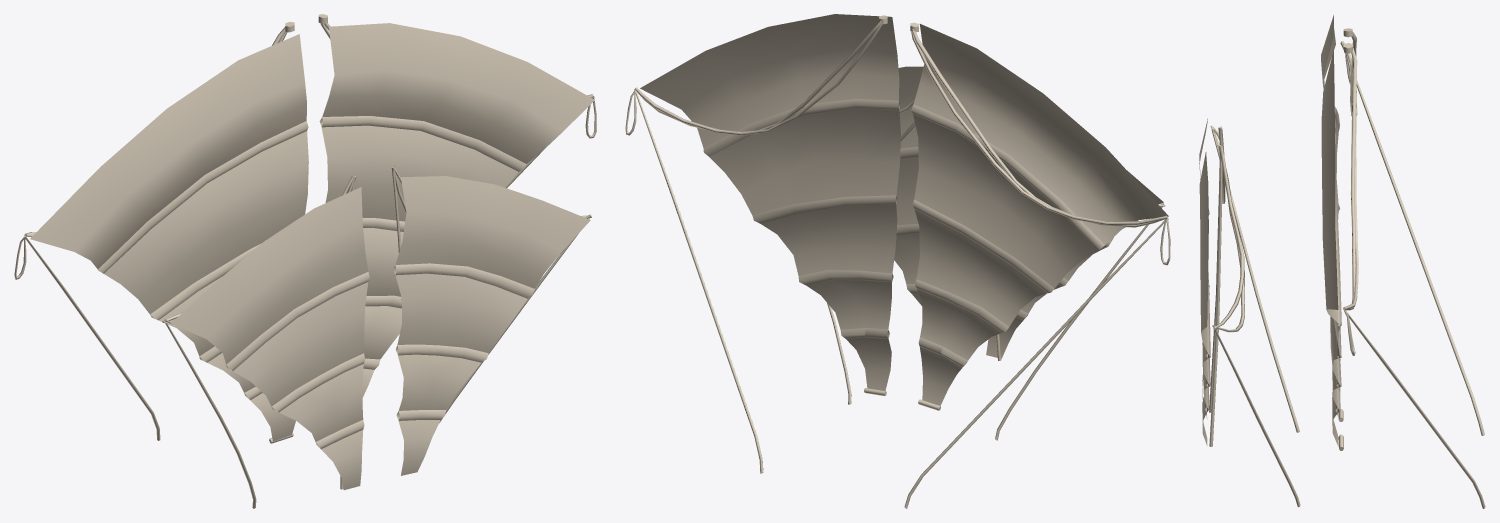
File: cloth-base.glb
The picture shows the model from 3 angles, left to right: view 1: azimuth 30°, elevation 25°; view 2: azimuth 150°, elevation 25°; view 3: azimuth 270°, elevation 25°; orthographic projection. The views are drawn at different scales.
Size of the model in its own units: 5.46 by 4.07 by 2.42.
